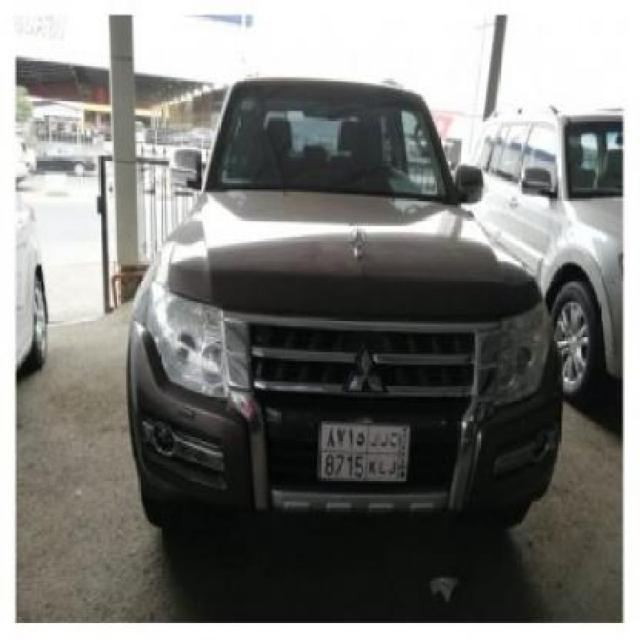license_plate: (316, 419, 412, 486)
